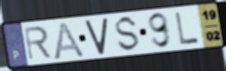9: (146, 12, 173, 50)
A: (51, 20, 87, 61)
L: (174, 11, 201, 46)
R: (22, 25, 54, 62)
S: (115, 14, 142, 53)
V: (84, 16, 110, 57)
